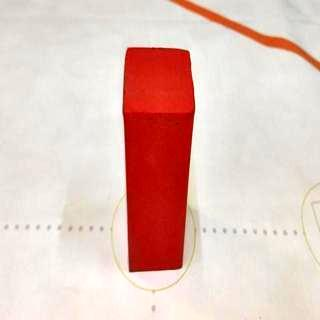redbox: (120, 45, 196, 274)
